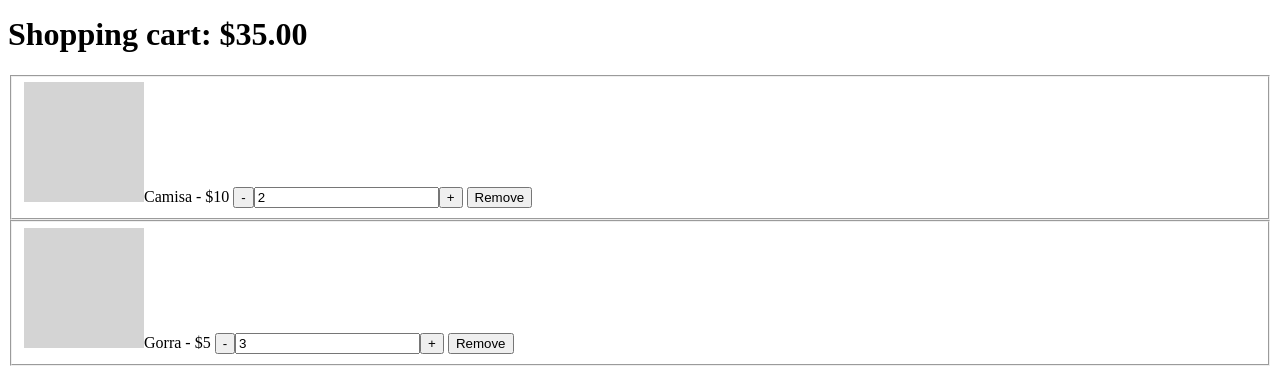
Cart › + sube la cantidad y el total
Expected: the field next to "10" holds "2", [254, 188, 439, 208]
Click the button "+" in the row of "10".
click(451, 198)  # box [439, 188, 463, 208]
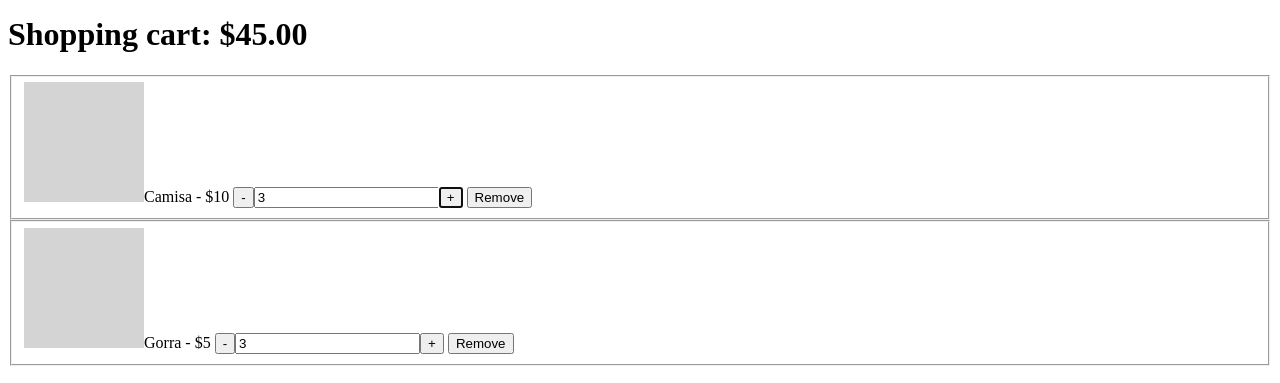
Now the field next to "10" holds "3", box [254, 188, 439, 208]
Now the heading "Shopping cart: $45.00" is shown, box [8, 16, 308, 52]
